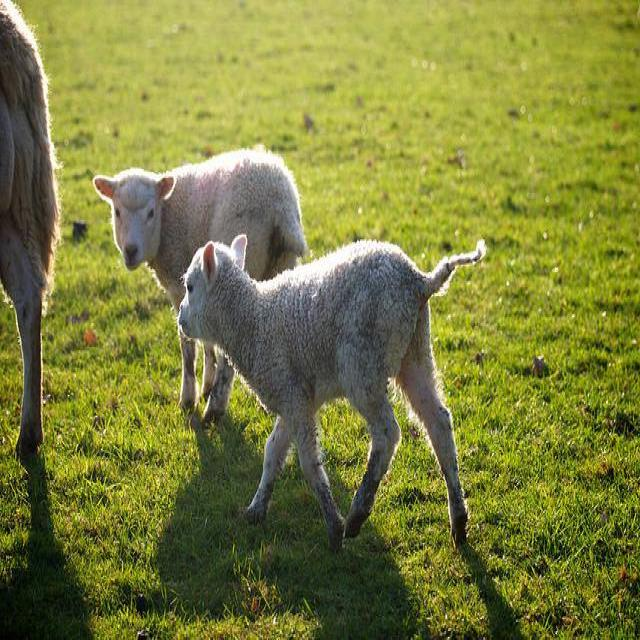Sheep: (178, 236, 487, 552), (93, 154, 307, 429), (1, 1, 57, 483)
